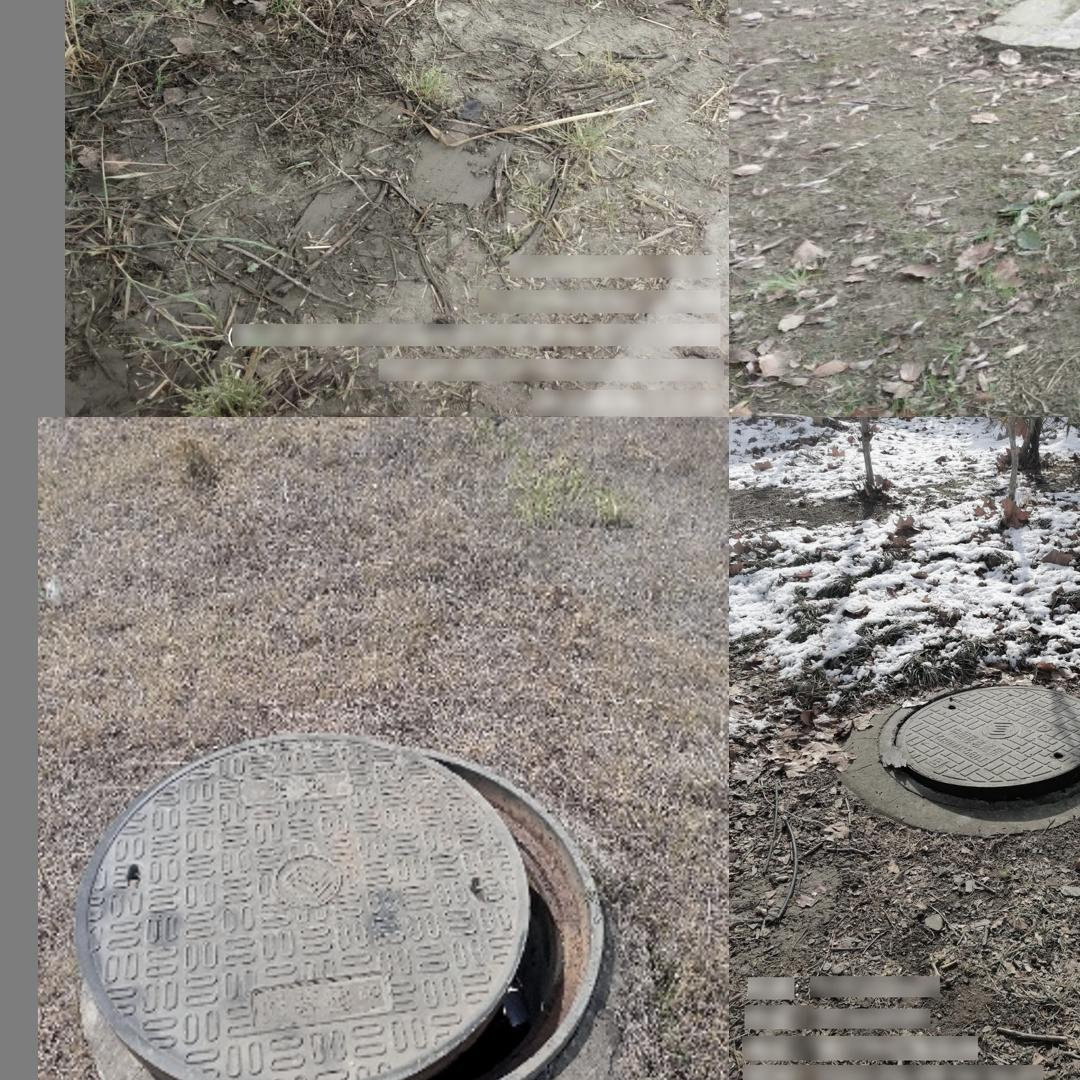uncovered: (75, 730, 612, 1080), (873, 673, 1080, 798), (1053, 0, 1080, 53)
